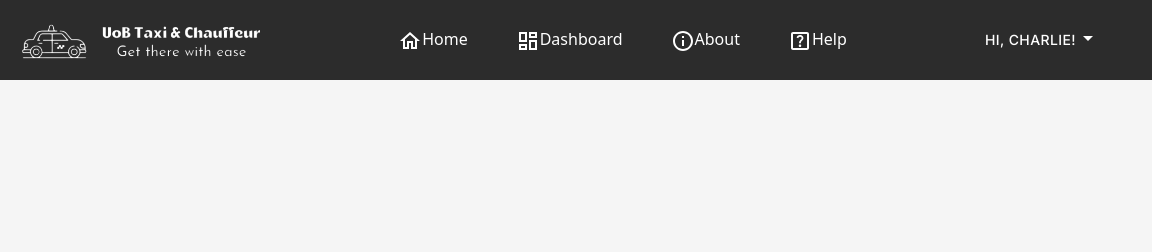
it: Navbar – desktop dropdown: Profile item › avatar inside the dropdown shows the uppercased first letter of the user name
The image size is (1152, 252).
Click the button "Hi, Charlie!".
click(1042, 40)  # box [977, 20, 1108, 60]
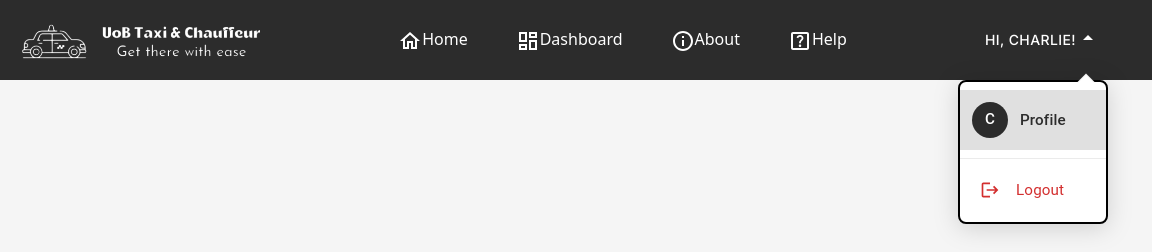
Check: the menu is shown, box [960, 82, 1106, 222]
Check: the text "C" is shown, box [972, 102, 1008, 138]
